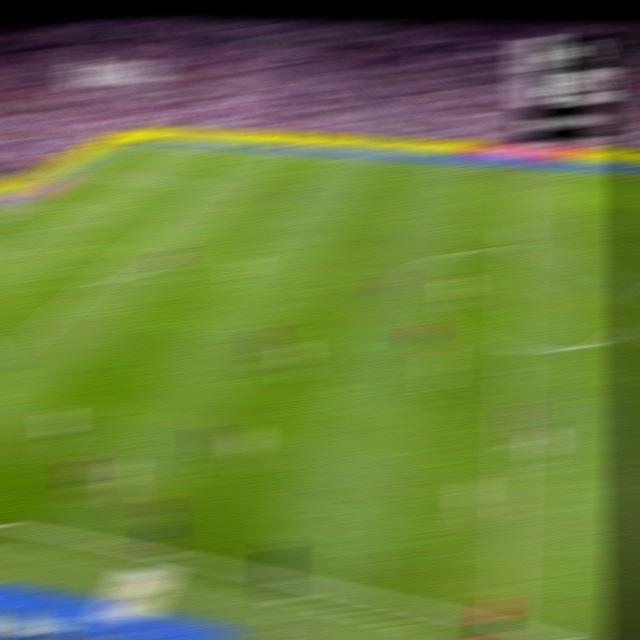bigarea_bottom_inner: (0, 352, 13, 372)
bigarea_top_inner: (197, 179, 219, 189)
bigarea_top_outter: (75, 168, 97, 177)
bottom_arc_area_intersection: (81, 276, 106, 290)
halfcircle_bottom: (501, 336, 528, 358)
halfcircle_top: (505, 242, 532, 258)
midline_bottom_intersection: (492, 613, 523, 635)
midline_top_intersection: (510, 165, 532, 175)
smallarea_top_inner: (66, 205, 86, 211)
top_arc_area_intersection: (152, 216, 175, 228)
